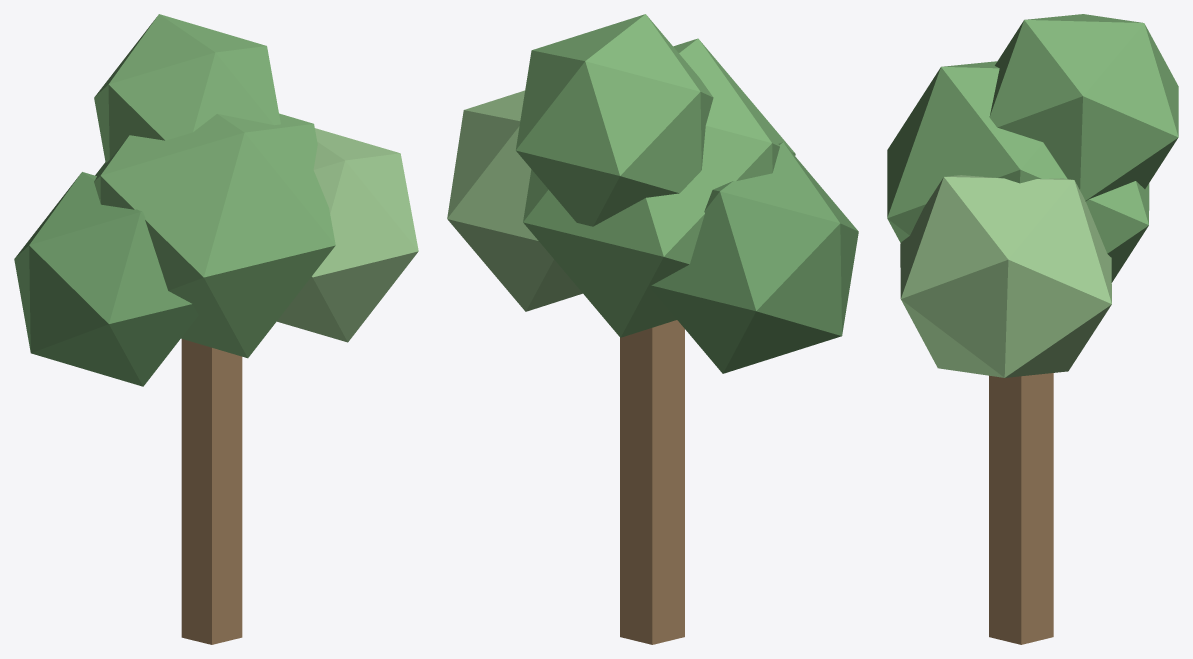
The model's file is animprop_tree_05.glb.
3 renders of one model, left to right at view 1: azimuth 30°, elevation 25°; view 2: azimuth 150°, elevation 25°; view 3: azimuth 270°, elevation 25°, orthographic. The views are drawn at different scales.
Visible parts, largest first — view 1: animprop; view 2: animprop; view 3: animprop.
Part boxes in pixels (x1,y1,x2,y2): animprop: (14,14,418,644); animprop: (447,14,858,644); animprop: (887,14,1178,644).
Bounding box in the file's own units: 1.79 × 2.72 × 1.17.
